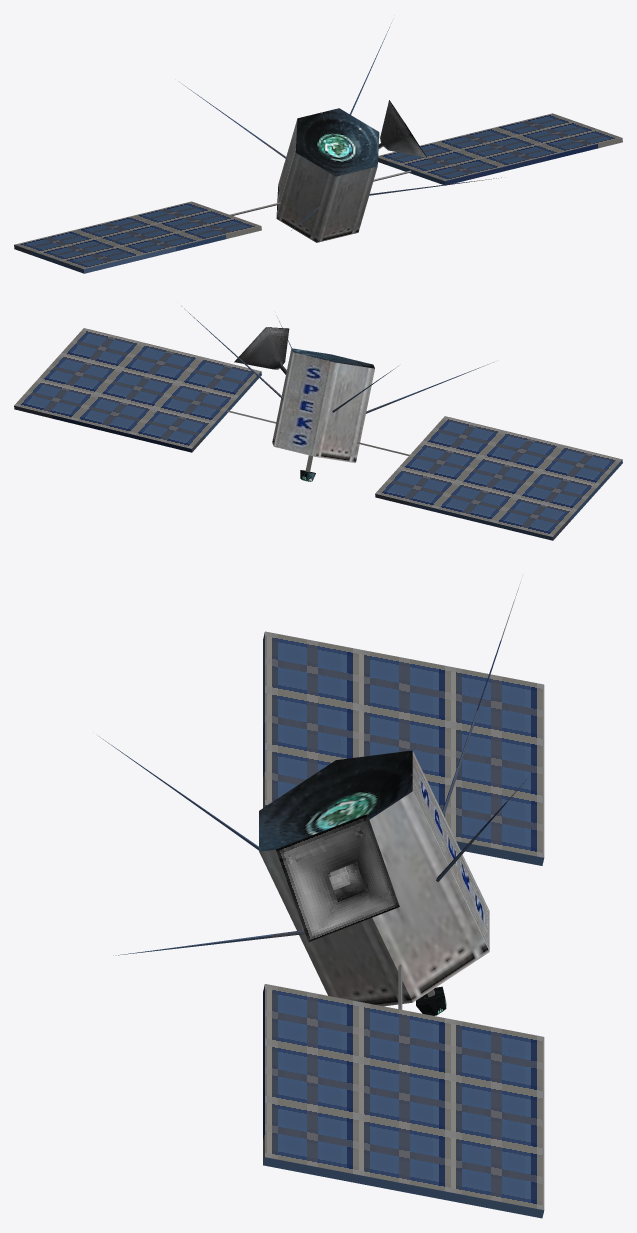
The model's file is SpeksSat.fbx.
3 views of the same model, one above another, from view 1: azimuth 30°, elevation 25°; view 2: azimuth 150°, elevation 25°; view 3: azimuth 270°, elevation 25° (orthographic). The views are drawn at different scales.
Parts seen in each view (by area): view 1: SpeksSat; view 2: SpeksSat; view 3: SpeksSat.
Boxes of the visible parts, x1=… form: SpeksSat: x1=14, y1=23, x2=622, y2=273; SpeksSat: x1=14, y1=306, x2=622, y2=540; SpeksSat: x1=99, y1=581, x2=544, y2=1218.
Bounding box in the file's own units: 1093 × 333 × 397.
